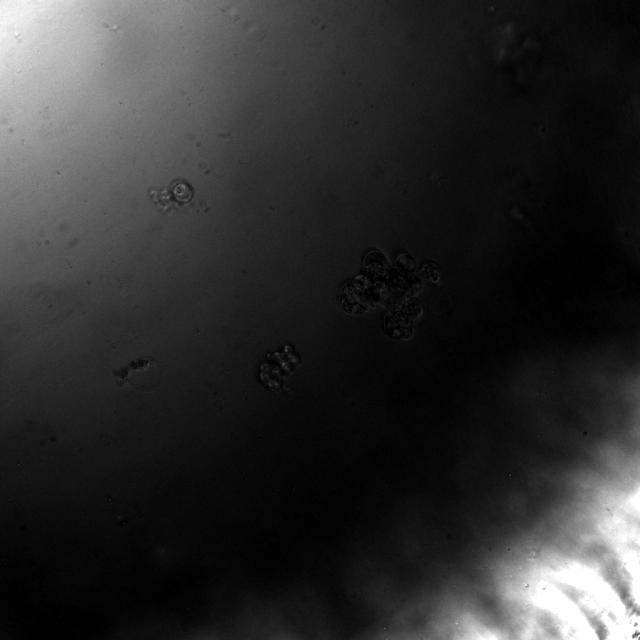organoid: (338, 251, 441, 340), (259, 344, 300, 391), (149, 177, 194, 213)
